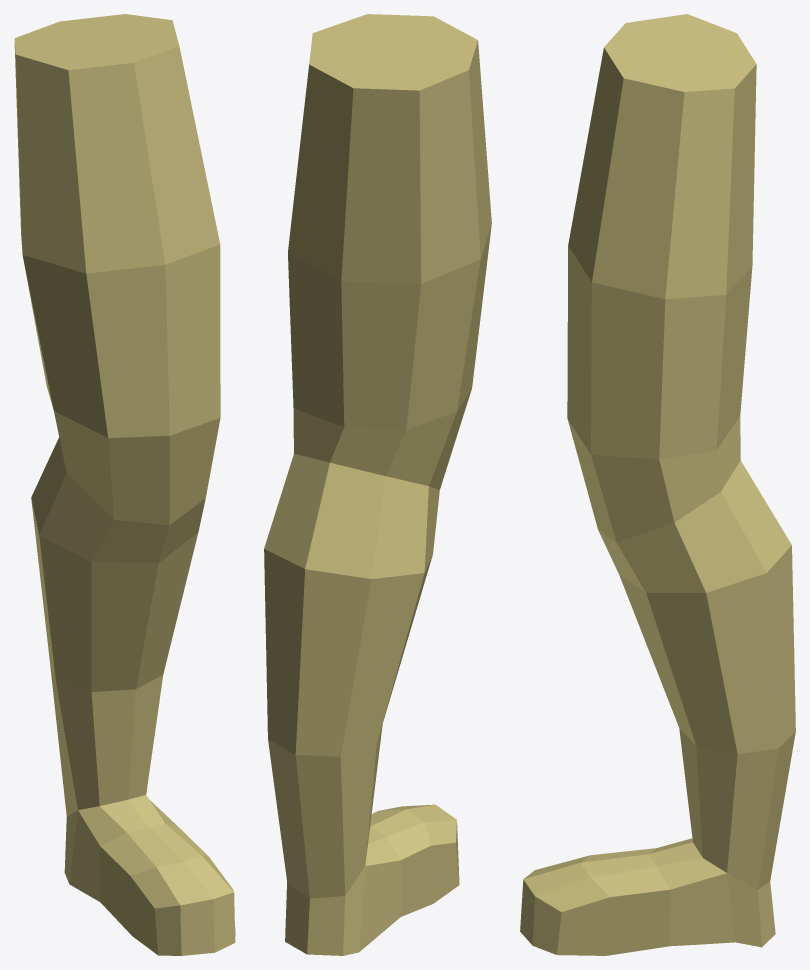
File: Lleg.fbx
3 views of the same model, side by side, from view 1: azimuth 30°, elevation 25°; view 2: azimuth 150°, elevation 25°; view 3: azimuth 270°, elevation 25° (orthographic).
Parts seen in each view (by area): view 1: leg_L; view 2: leg_L; view 3: leg_L.
Boxes of the visible parts, x1,y1,x2,y2 form: leg_L: (14, 14, 235, 955); leg_L: (264, 14, 491, 955); leg_L: (520, 14, 795, 955).
Bounding box in the file's own units: 22.63 × 101 × 28.91.
